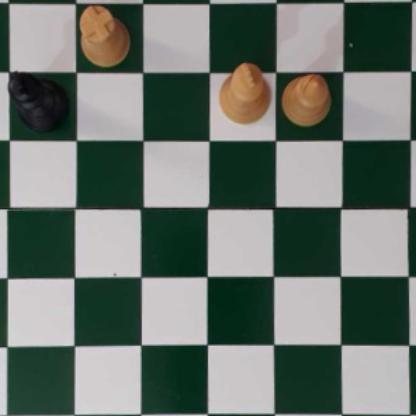black-king: (7, 69, 72, 133)
white-bishop: (283, 72, 329, 126)
white-king: (218, 60, 271, 125)
white-rook: (79, 4, 131, 67)
